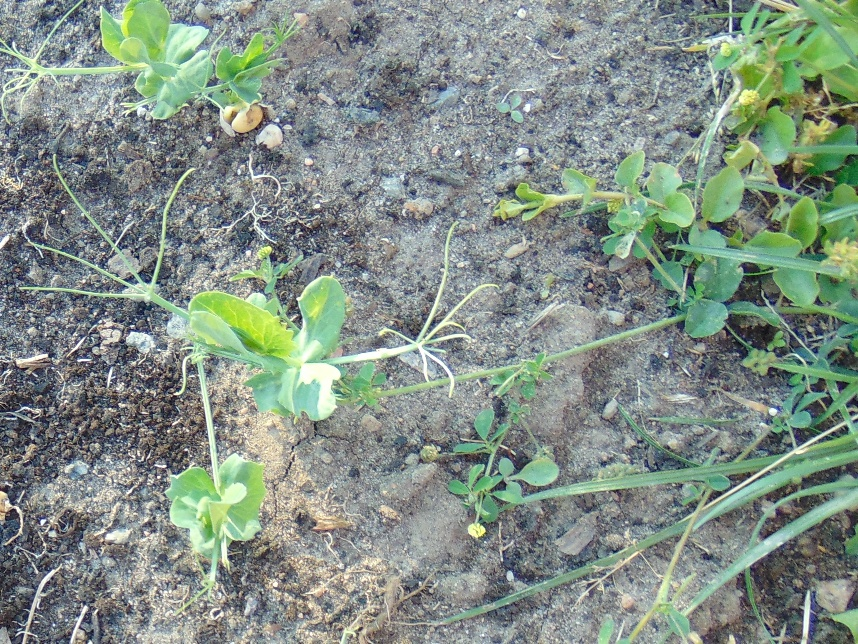crop: (107, 251, 440, 423), (1, 1, 297, 125), (153, 398, 283, 605)
weed: (704, 1, 858, 369), (495, 144, 858, 289), (762, 168, 858, 525), (657, 240, 858, 366), (450, 406, 563, 537), (680, 448, 747, 513), (595, 604, 694, 644), (493, 354, 554, 400), (349, 364, 393, 412), (495, 94, 523, 123), (832, 608, 858, 638)
